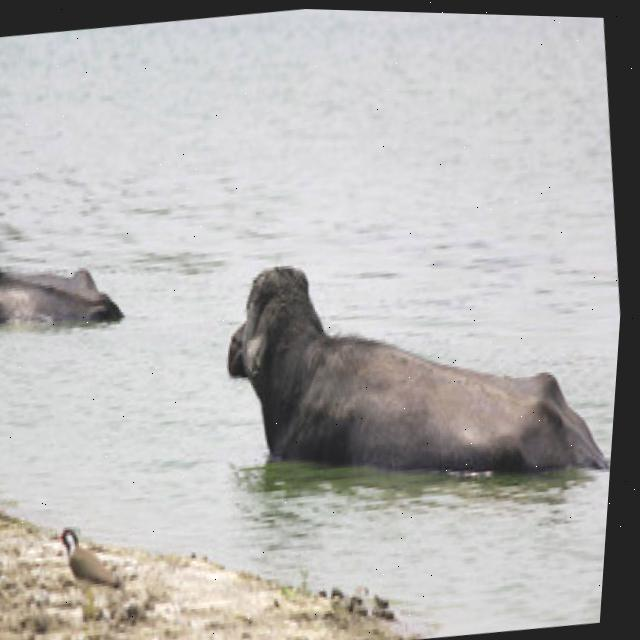Buffalo: (202, 216, 624, 506)
